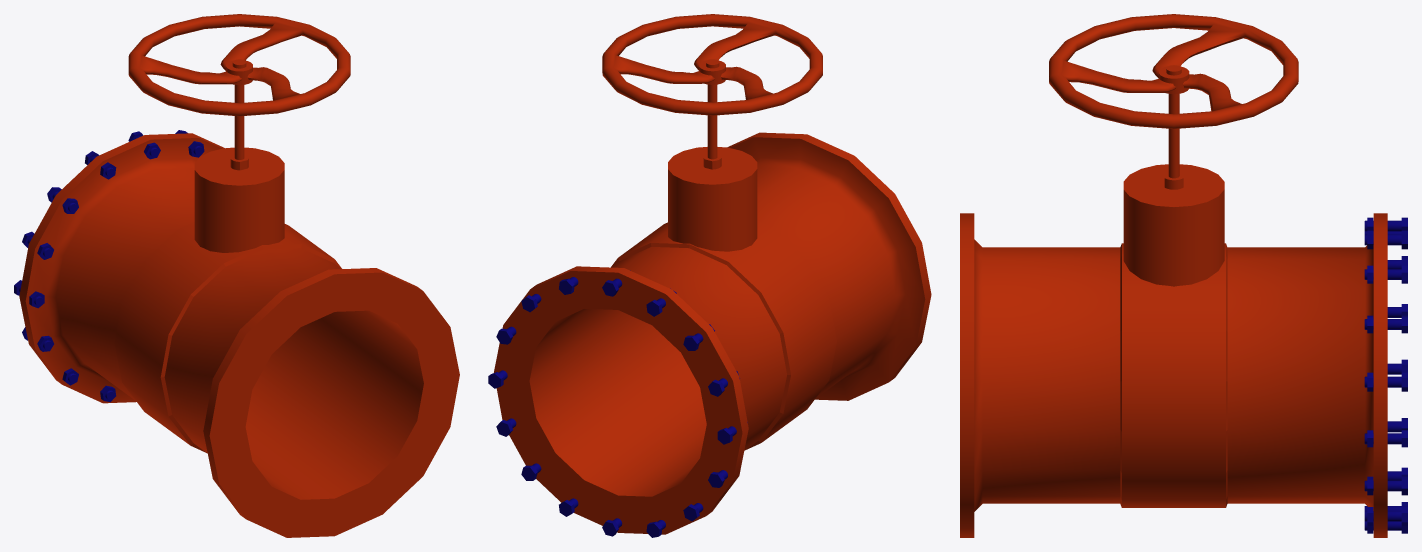
File: MSP_Valve02_BoltX17_02.FBX
3 views of the same model, side by side, from view 1: azimuth 30°, elevation 25°; view 2: azimuth 150°, elevation 25°; view 3: azimuth 270°, elevation 25° (orthographic). The views are drawn at different scales.
Visible parts, largest first — view 1: PipeValve_up1_01_Low001, Valve_02_Low004, Bolt_004; view 2: PipeValve_up1_01_Low001, Valve_02_Low004, Bolt_004; view 3: PipeValve_up1_01_Low001, Valve_02_Low004, Bolt_004.
Part boxes in pixels (x1,y1,x2,y2): PipeValve_up1_01_Low001: (19, 59, 459, 537); Valve_02_Low004: (128, 14, 350, 116); Bolt_004: (14, 130, 204, 402); PipeValve_up1_01_Low001: (494, 59, 931, 534); Valve_02_Low004: (602, 14, 822, 115); Bolt_004: (488, 270, 747, 537); PipeValve_up1_01_Low001: (960, 65, 1387, 537); Valve_02_Low004: (1049, 14, 1298, 128); Bolt_004: (1364, 217, 1407, 533).
Bounding box in the file's own units: 38 × 59.02 × 52.36.
